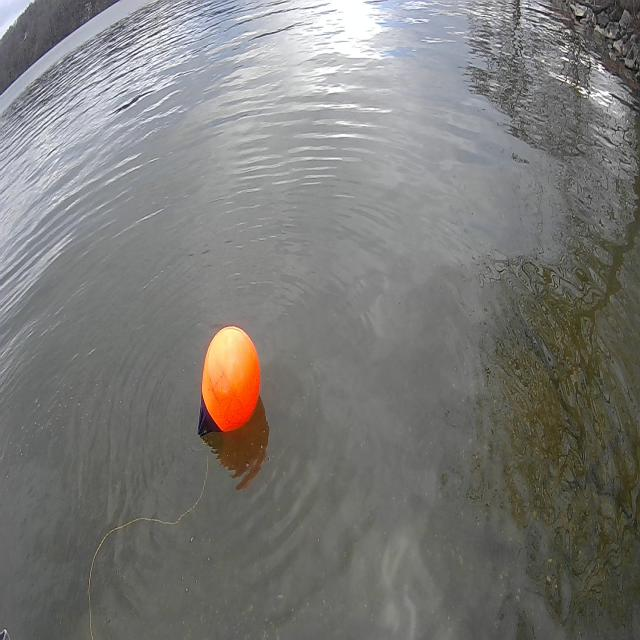Buoy: (201, 322, 262, 438)
